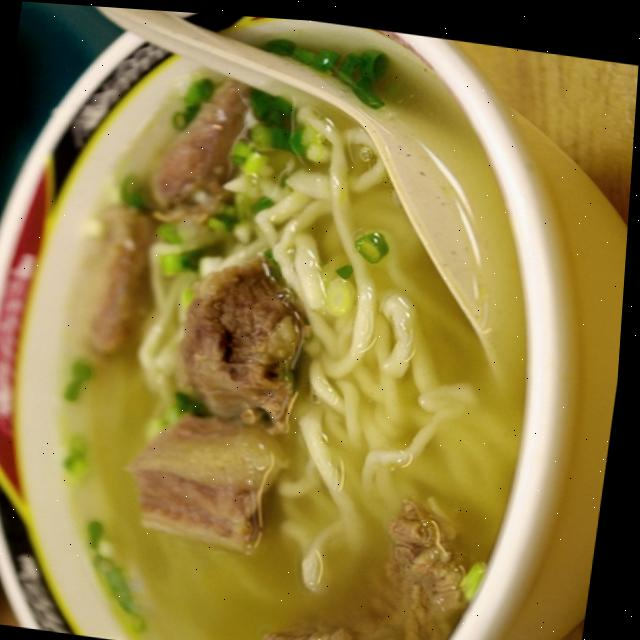面条主食: (0, 0, 627, 640)
